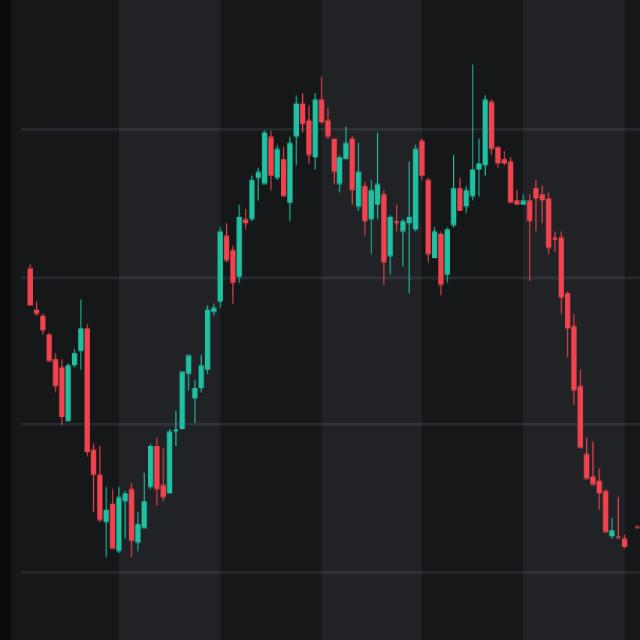Rising-Wedge: (76, 78, 327, 636)
